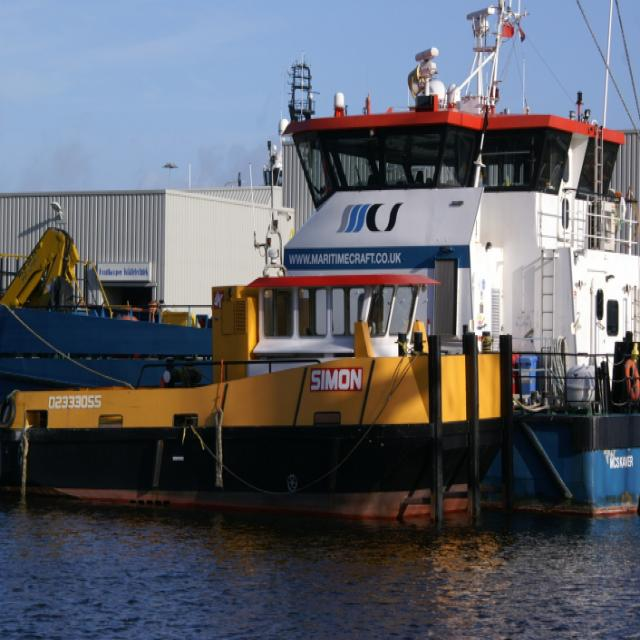tugboat: (3, 247, 519, 539)
